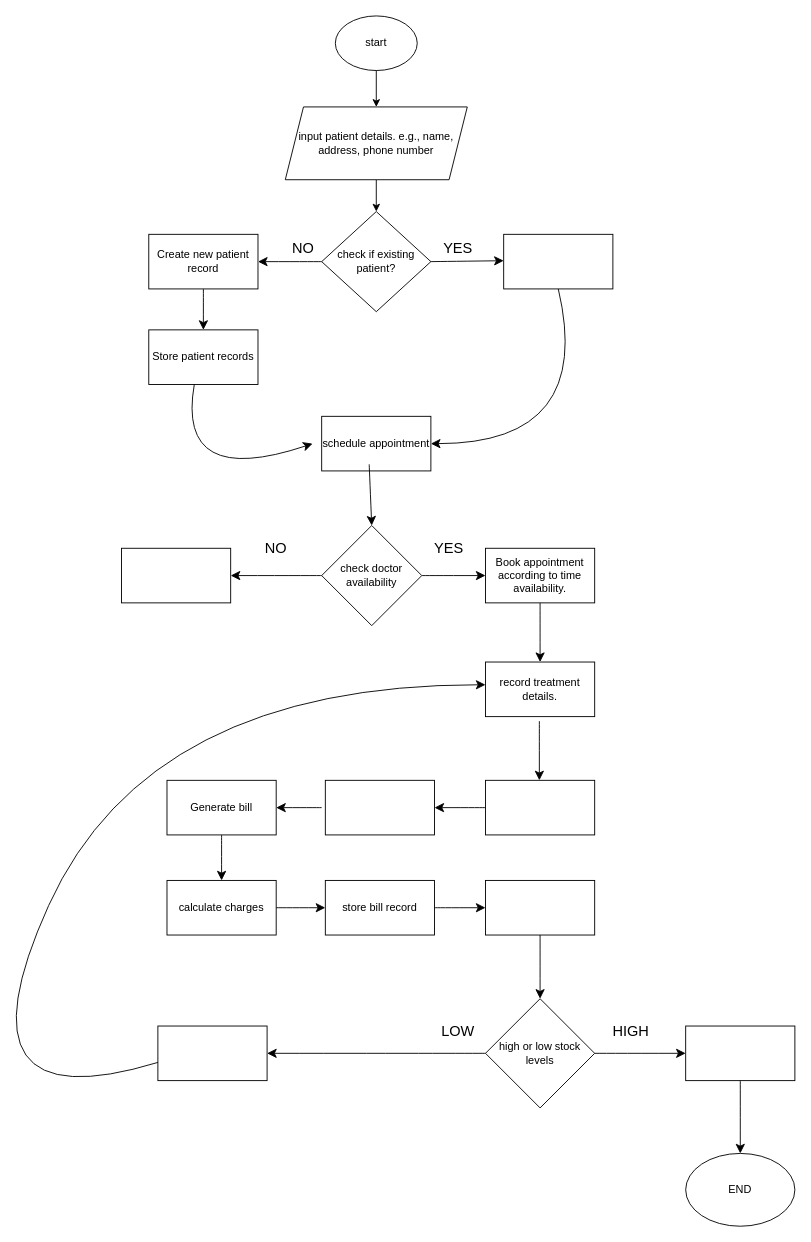
Image size: 811x1242. Some labels were removed from this diagram. Each missing label, with the box of its shape:
Display doctor availability. e.g., what day and time he is available.: (121, 547, 231, 603)
Generate reorder request: (157, 1025, 267, 1081)
Link treatment to patient record: (324, 779, 435, 835)
Retrieve existing patient record: (503, 233, 613, 289)
store for customer: (685, 1025, 795, 1081)
track medicine usage: (485, 880, 595, 935)
update treatment record details: (485, 779, 595, 835)
